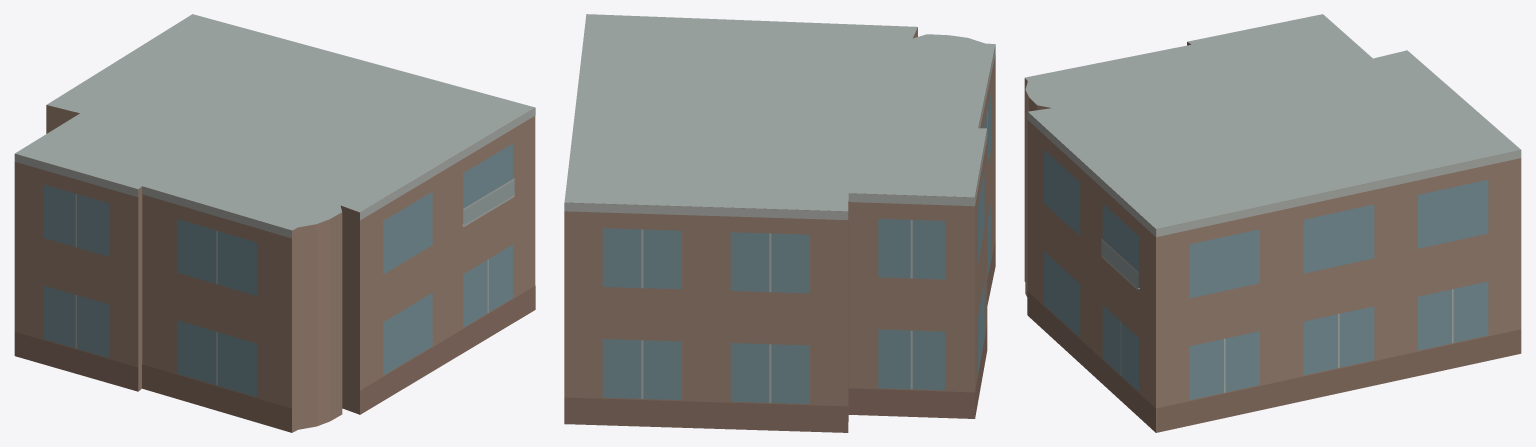
The model's file is survey-upis-32704907.glb.
3 views of the same model, side by side, from view 1: azimuth 30°, elevation 25°; view 2: azimuth 150°, elevation 25°; view 3: azimuth 270°, elevation 25° (orthographic). The views are drawn at different scales.
Visible parts, largest first — view 1: survey-upis-32704907.tmp; view 2: survey-upis-32704907.tmp; view 3: survey-upis-32704907.tmp.
Boxes of the visible parts, x1,y1,x2,y2 form: survey-upis-32704907.tmp: (14,14,535,432); survey-upis-32704907.tmp: (564,14,995,432); survey-upis-32704907.tmp: (1024,14,1521,432).
Bounding box in the file's own units: 13.82 × 6.1 × 13.49.
